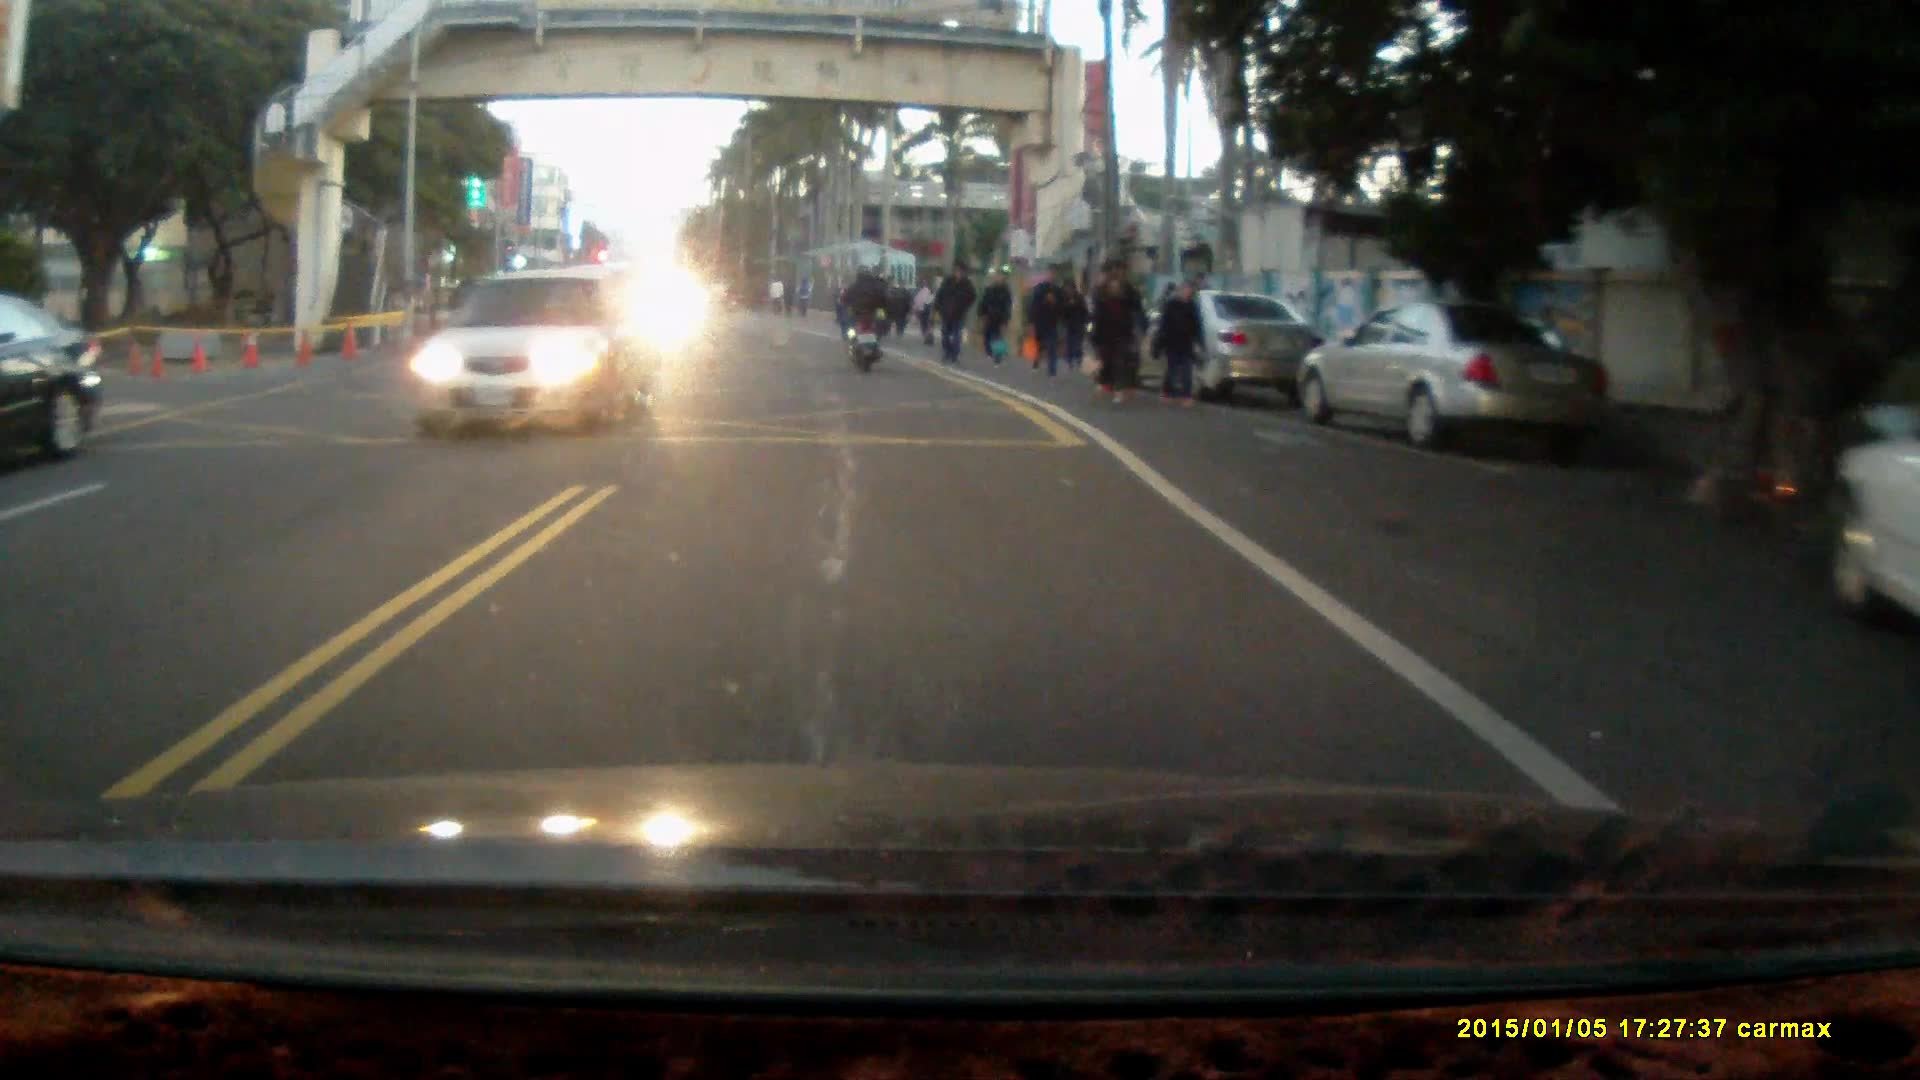pedestrian: (1153, 277, 1207, 409), (1092, 269, 1138, 407), (1025, 259, 1067, 380), (932, 259, 976, 367), (974, 268, 1014, 372)
rider: (837, 265, 890, 374)
vehicle: (1304, 300, 1616, 449), (404, 268, 662, 441), (1107, 293, 1332, 402), (1829, 401, 1920, 626), (1, 296, 101, 465)
